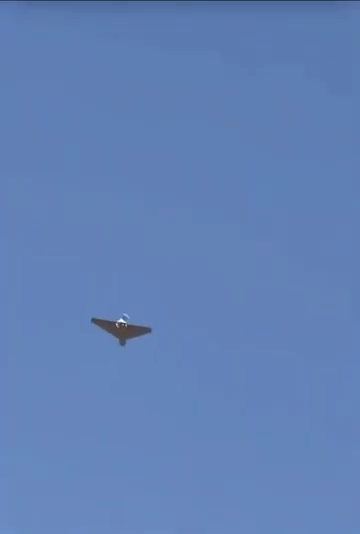shahed: (89, 311, 152, 347)
